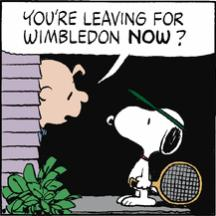charlie: (38, 60, 90, 142)
snoopy: (104, 89, 203, 209)
